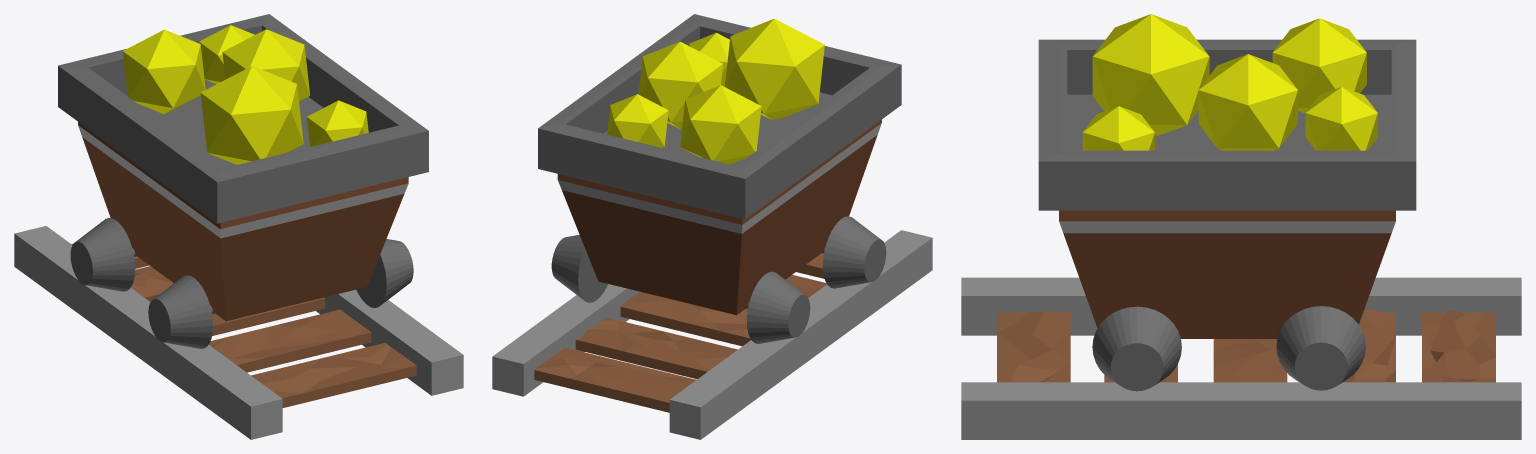
The model's file is charriot.glb.
3 views of the same model, side by side, from view 1: azimuth 30°, elevation 25°; view 2: azimuth 150°, elevation 25°; view 3: azimuth 270°, elevation 25° (orthographic). The views are drawn at different scales.
Visible parts, largest first — view 1: Cube.007; view 2: Cube.007; view 3: Cube.007.
Boxes of the visible parts, x1,y1,x2,y2 form: Cube.007: (14,14,463,439); Cube.007: (492,14,932,439); Cube.007: (961,14,1521,439).
Size of the model in its own units: 0.7105 by 0.8284 by 1.2.
